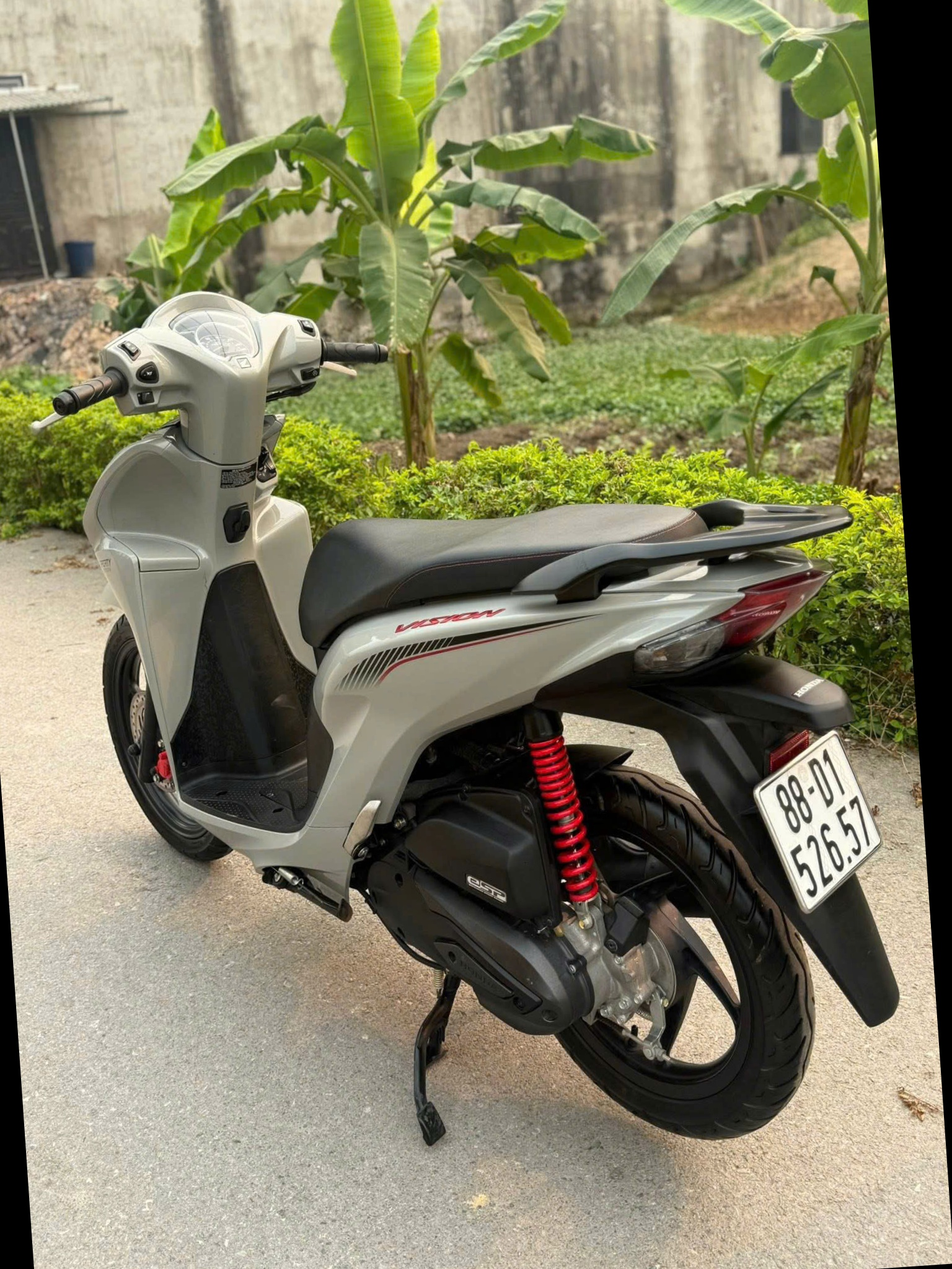Bien-so: (777, 756, 915, 930)
